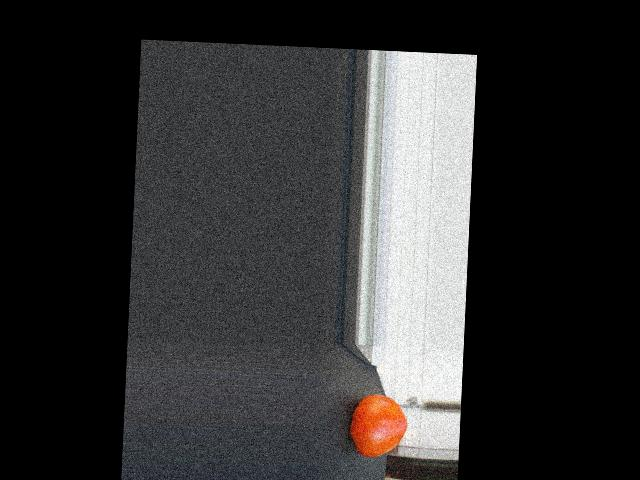tomato: (349, 393, 409, 458)
